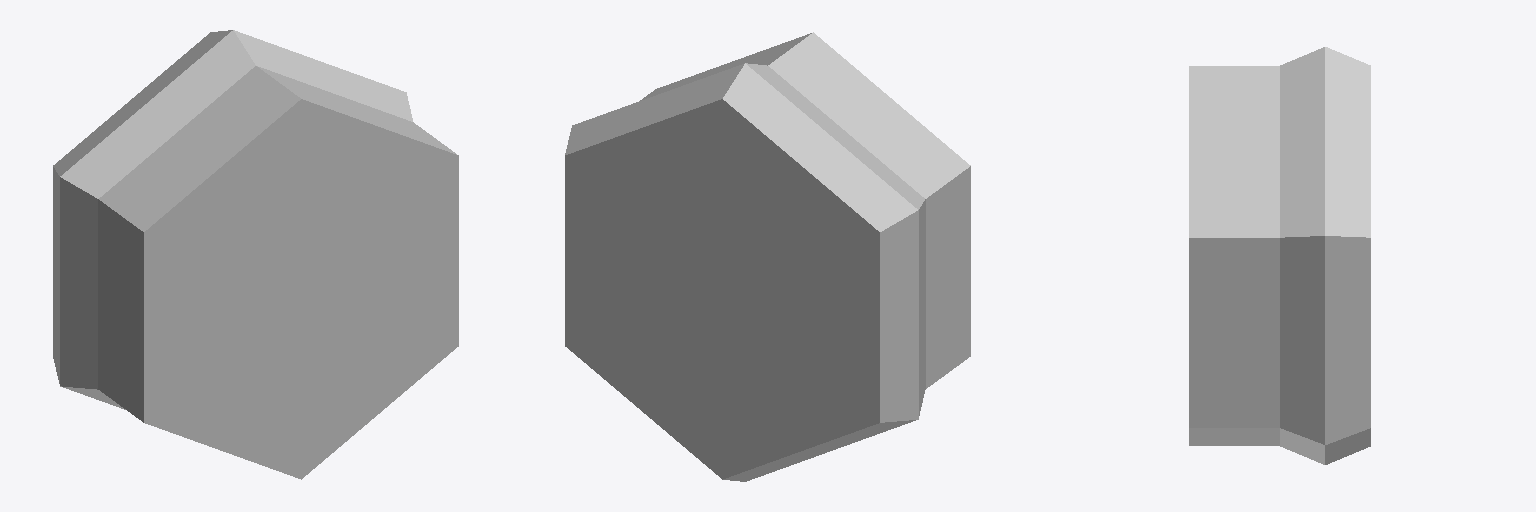
Rendered from block-snow-low-hexagon.obj.
3 views of the same model, side by side, from view 1: azimuth 30°, elevation 25°; view 2: azimuth 150°, elevation 25°; view 3: azimuth 270°, elevation 25° (orthographic).
Parts seen in each view (by area): view 1: block-snow-low-hexagon; view 2: block-snow-low-hexagon; view 3: block-snow-low-hexagon.
Boxes of the visible parts, x1=… form: block-snow-low-hexagon: x1=53, y1=30, x2=458, y2=479; block-snow-low-hexagon: x1=565, y1=32, x2=970, y2=481; block-snow-low-hexagon: x1=1189, y1=47, x2=1370, y2=464.
Size of the model in its own units: 1.1 by 1.27 by 0.5.